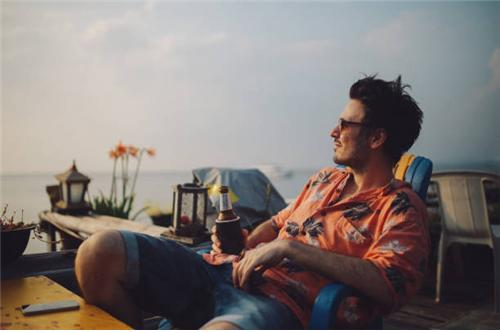alcohol: (213, 187, 249, 259)
